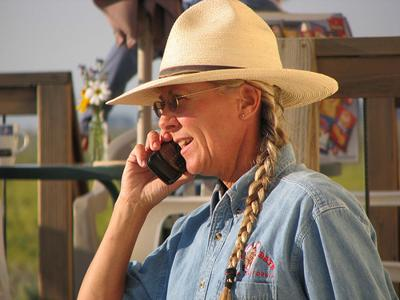person: (77, 2, 396, 300)
